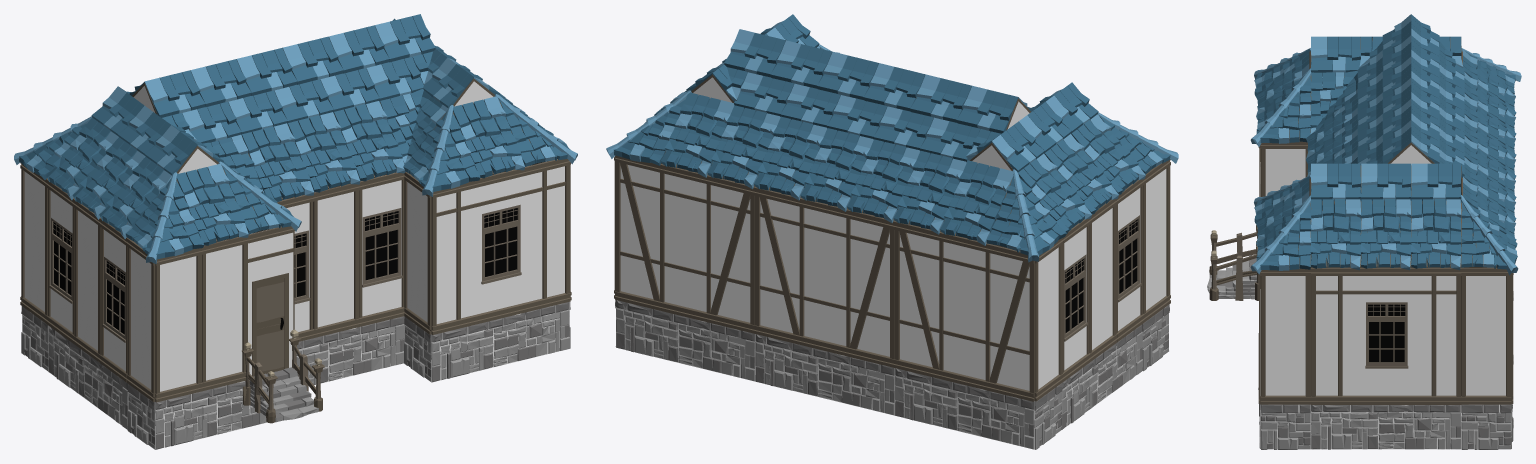
File: House_09_full.glb
3 views of the same model, side by side, from view 1: azimuth 30°, elevation 25°; view 2: azimuth 150°, elevation 25°; view 3: azimuth 270°, elevation 25° (orthographic). The views are drawn at different scales.
Parts seen in each view (by area): view 1: WINDOW_03_2, WALL_03_6, WALL_03_4, WINDOW_04_4, FOUNDATION_02_26, WALL_03_3, DOOR_01_3, FOUNDATION_02_25, FOUNDATION_02_24, STAIRS_06_4, WALL_03_7, WALL_03_8 (+40 smaller); view 2: WALL_02_4, WALL_02_3, WALL_02_2, FOUNDATION_02_28, FOUNDATION_02_29, FOUNDATION_02_30, WALL_03_9, WALL_03_8, WALL_03_7, WINDOW_04_6, WINDOW_04_5, FOUNDATION_02_31 (+31 smaller); view 3: WINDOW_03_3, WALL_03_12, WALL_03_11, FOUNDATION_02_27, ROOF_base_13, ROOF_base_12, ROOF_base_11, ROOF_corner_out_7, ROOF_corner_out_5, ROOF_corner_out_3, STAIRS_06_4, FOUNDATION_03_12 (+49 smaller).
Part boxes in pixels (box(x1,y1,x2,y2)): WINDOW_03_2: box(431, 159, 570, 334); WALL_03_6: box(313, 184, 359, 337); WALL_03_4: box(155, 248, 202, 402); WINDOW_04_4: box(359, 172, 404, 326); FOUNDATION_02_26: box(431, 302, 569, 382); WALL_03_3: box(201, 237, 248, 391); DOOR_01_3: box(247, 226, 294, 376); FOUNDATION_02_25: box(155, 381, 267, 449); FOUNDATION_02_24: box(296, 316, 404, 386); STAIRS_06_4: box(242, 329, 324, 423); WALL_03_7: box(126, 238, 155, 401); WALL_03_8: box(73, 199, 101, 362); WALL_02_4: box(894, 221, 1034, 401); WALL_02_3: box(754, 187, 894, 367); WALL_02_2: box(615, 155, 754, 333); FOUNDATION_02_28: box(616, 300, 755, 381); FOUNDATION_02_29: box(755, 334, 894, 415); FOUNDATION_02_30: box(895, 368, 1034, 449); WALL_03_9: box(1034, 238, 1063, 401); WALL_03_8: box(1089, 199, 1117, 361); WALL_03_7: box(1143, 159, 1170, 322); WINDOW_04_6: box(1062, 218, 1090, 381); WINDOW_04_5: box(1116, 179, 1143, 342); FOUNDATION_02_31: box(1061, 324, 1142, 429); WINDOW_03_3: box(1311, 267, 1461, 404); WALL_03_12: box(1461, 267, 1511, 404); WALL_03_11: box(1260, 268, 1310, 404); FOUNDATION_02_27: box(1311, 405, 1461, 449); ROOF_base_13: box(1410, 199, 1461, 270); ROOF_base_12: box(1360, 199, 1411, 270); ROOF_base_11: box(1310, 198, 1361, 270); ROOF_corner_out_7: box(1461, 195, 1518, 275); ROOF_corner_out_5: box(1250, 195, 1311, 274); ROOF_corner_out_3: box(1250, 68, 1311, 146); STAIRS_06_4: box(1207, 225, 1258, 300); FOUNDATION_03_12: box(1461, 404, 1511, 449).
Size of the model in its own units: 9.41 by 6.09 by 6.27.
1 material, 1 textured.
